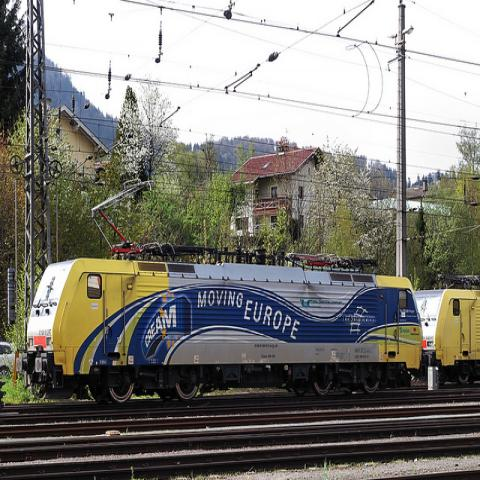car: (0, 341, 16, 386)
